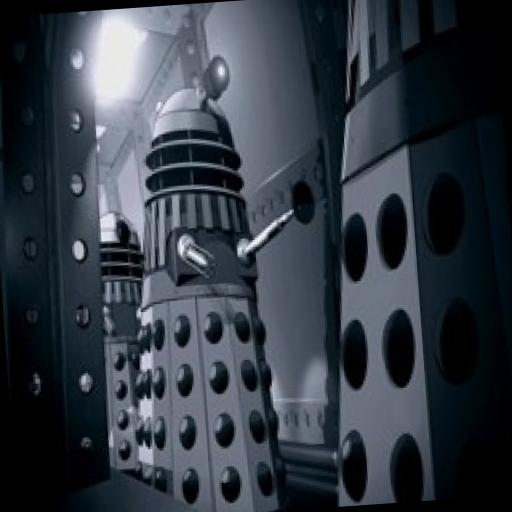dalek: (111, 41, 342, 512), (303, 0, 512, 507), (74, 192, 167, 474)
